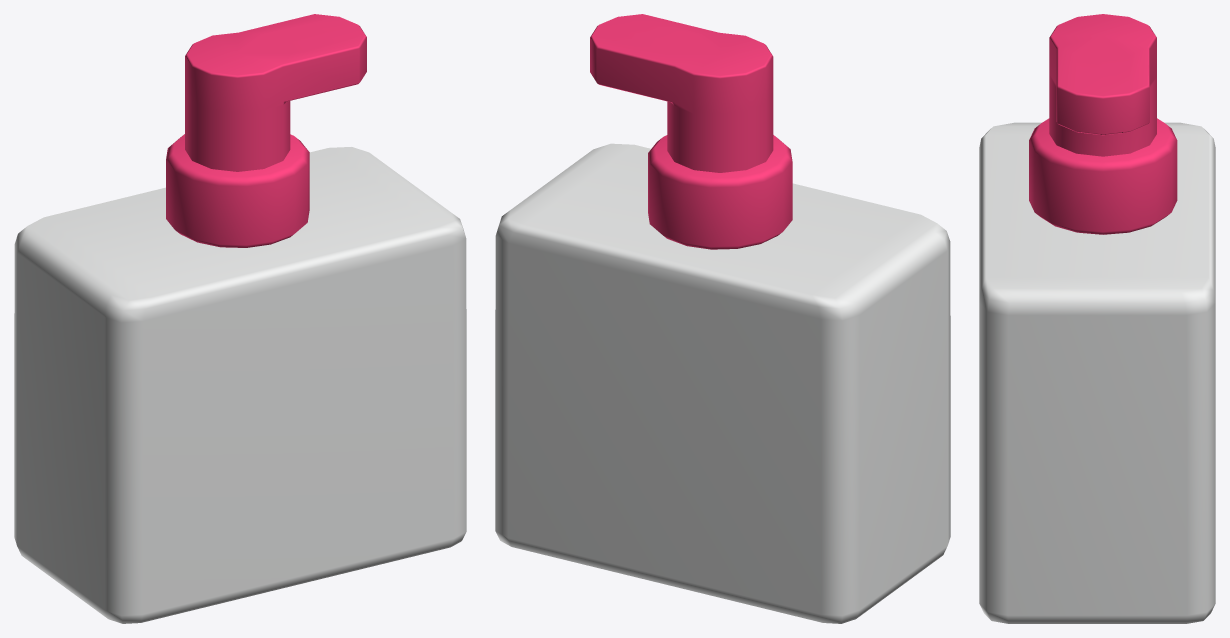
The model's file is Public_15_Bottle_1.glb.
3 views of the same model, side by side, from view 1: azimuth 30°, elevation 25°; view 2: azimuth 150°, elevation 25°; view 3: azimuth 270°, elevation 25° (orthographic). The views are drawn at different scales.
Parts seen in each view (by area): view 1: Public_15_Bottle_1; view 2: Public_15_Bottle_1; view 3: Public_15_Bottle_1.
Boxes of the visible parts, box(x1,y1,x2,y2) form: Public_15_Bottle_1: box(14, 14, 466, 623); Public_15_Bottle_1: box(495, 14, 950, 623); Public_15_Bottle_1: box(979, 14, 1215, 623).
Size of the model in its own units: 1.09 by 1.43 by 0.608.
Materials: 1 (1 with a texture image).
